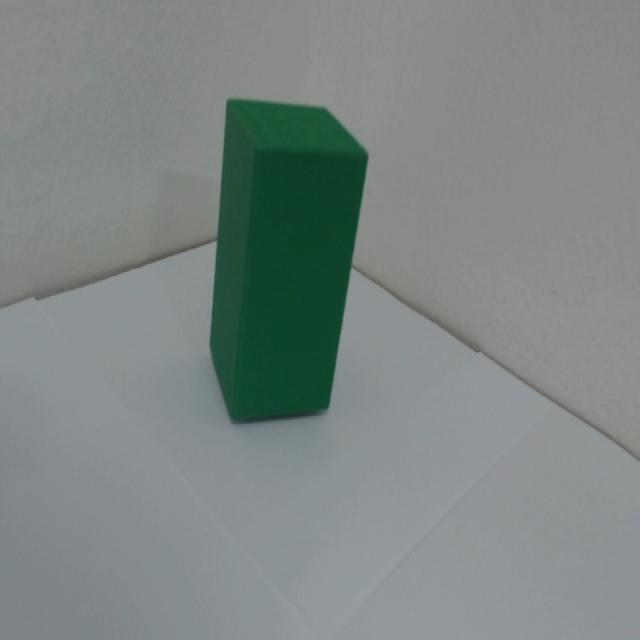cube: (188, 88, 395, 474)
